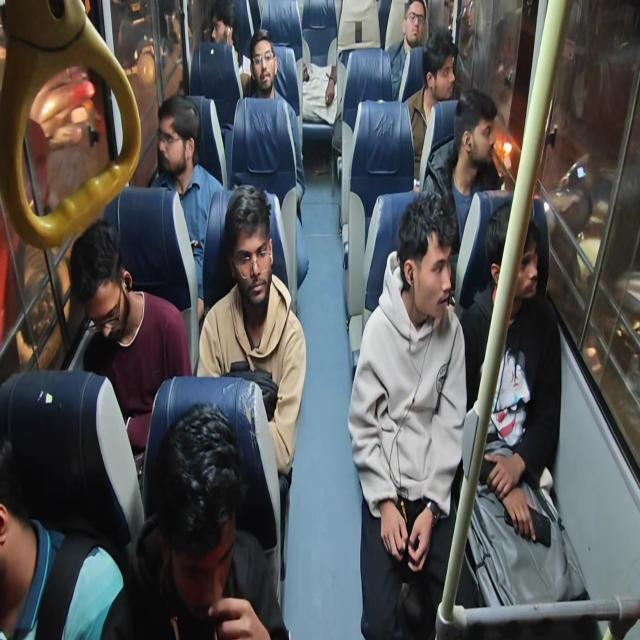person: (347, 190, 476, 638), (456, 200, 590, 609), (196, 184, 306, 602), (100, 401, 290, 639), (69, 218, 192, 478), (0, 437, 126, 638), (421, 87, 501, 295), (149, 94, 223, 318), (243, 29, 306, 216), (402, 25, 458, 191), (295, 0, 338, 125), (386, 0, 428, 101), (208, 0, 244, 72), (208, 0, 236, 46)
